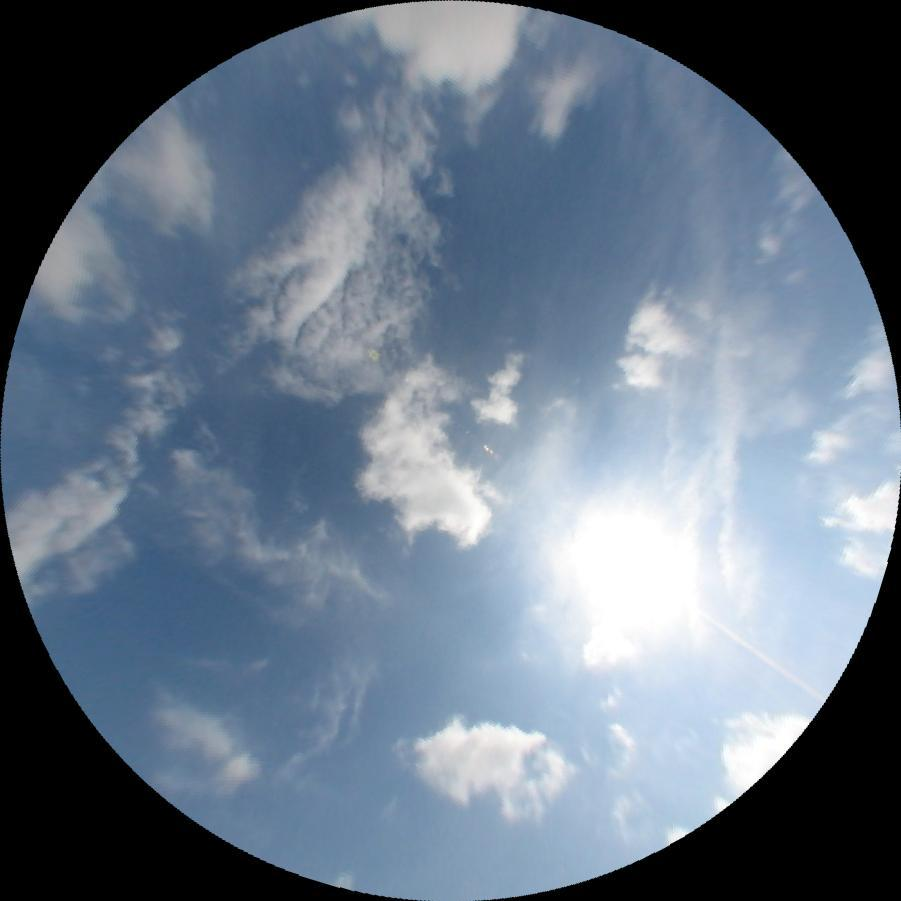parasite: (696, 607, 828, 705)
sun: (581, 523, 689, 625)
